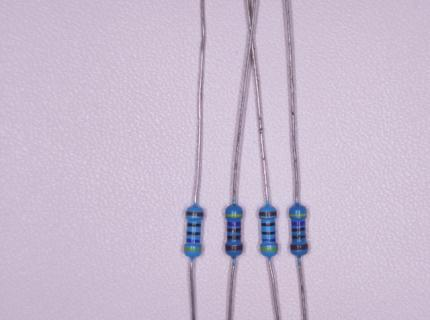Black band: (292, 234, 307, 239), (291, 227, 306, 232), (261, 222, 276, 227), (227, 228, 242, 233), (186, 222, 201, 227), (186, 231, 201, 236), (227, 235, 241, 240), (261, 231, 276, 235)
Brown band: (225, 244, 243, 252), (290, 243, 309, 250), (185, 211, 204, 217), (259, 211, 278, 217)
Violet band: (291, 221, 306, 227), (186, 238, 201, 243), (262, 238, 276, 242), (227, 222, 241, 226)
Yellow band: (260, 247, 278, 252), (184, 247, 201, 252), (225, 213, 243, 217), (289, 213, 307, 217)
